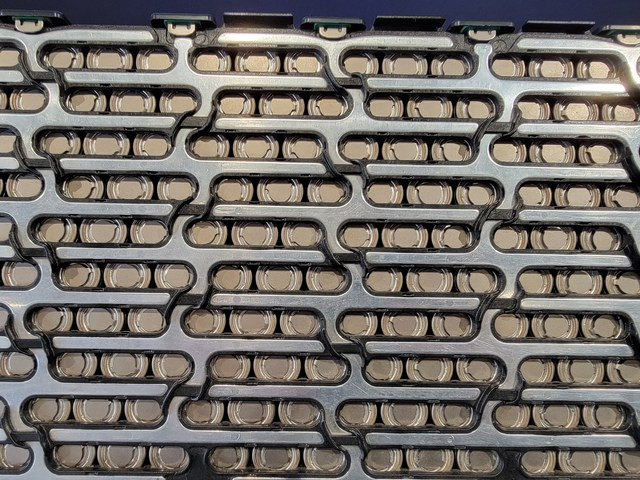Ambrane Micro USB Cable: (32, 24, 608, 456)
